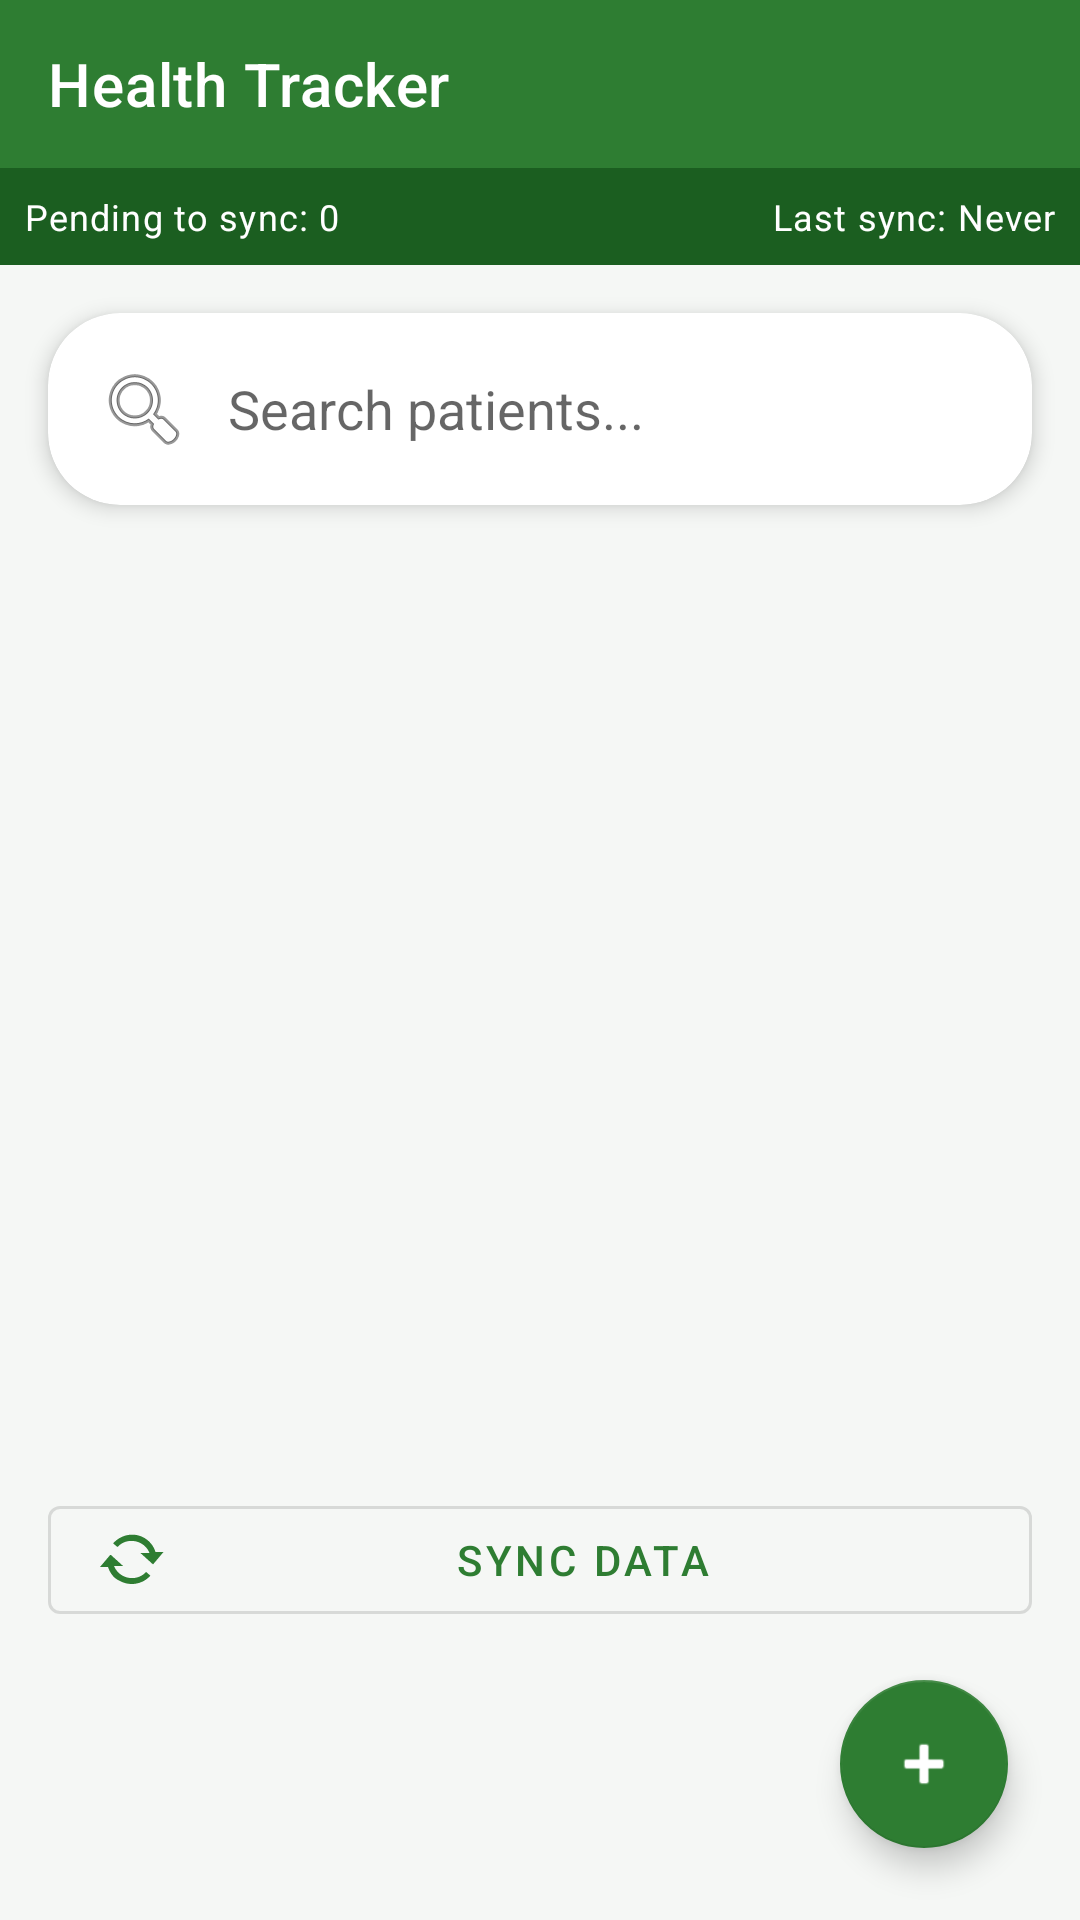

Named icons in this screenshot (1080×1920) and their bounding boxes, (x1, y1, x2, y2):
Add Patient: (840, 1680, 1008, 1848)
